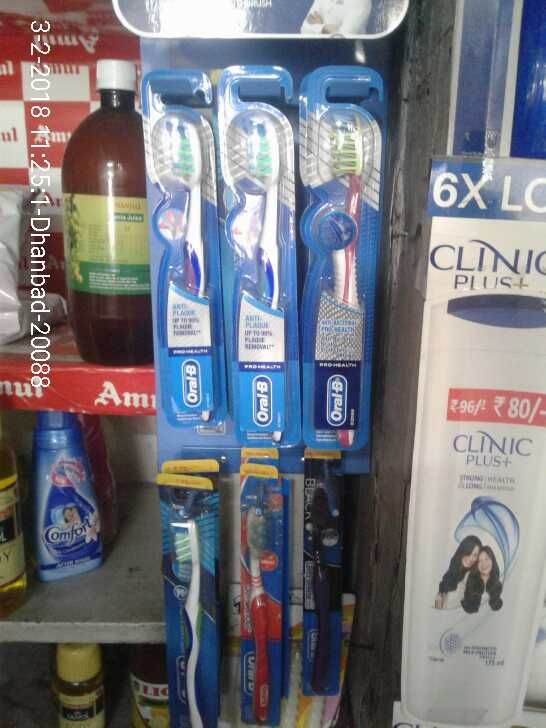oralb: (146, 106, 214, 410), (224, 122, 289, 429), (301, 110, 360, 437)
